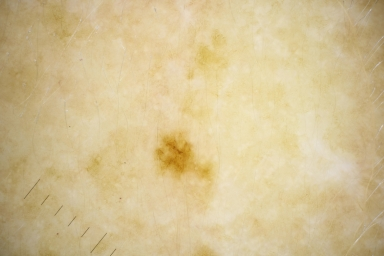melanoma: (155, 136, 213, 178)
